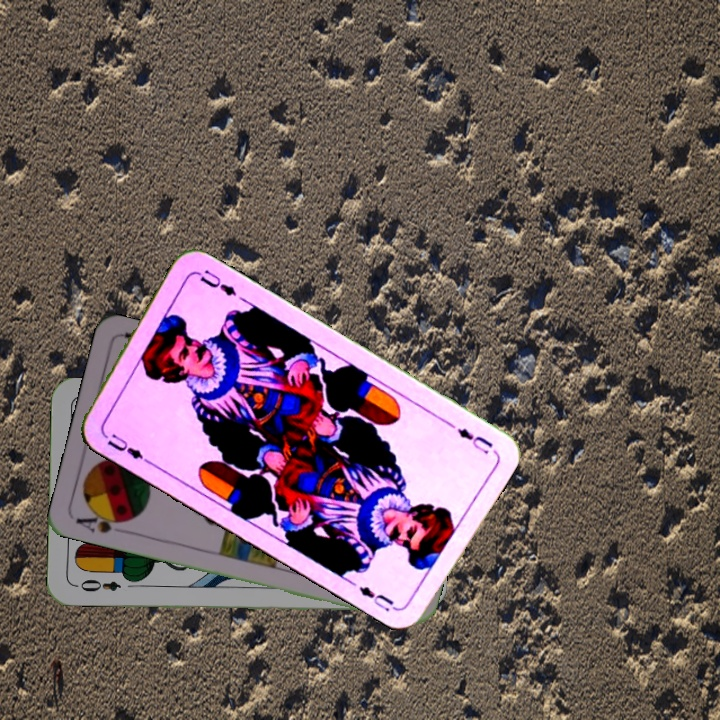EO: (71, 575, 123, 595)
EU: (98, 428, 152, 466), (453, 424, 496, 457)
SA: (72, 506, 132, 536)
